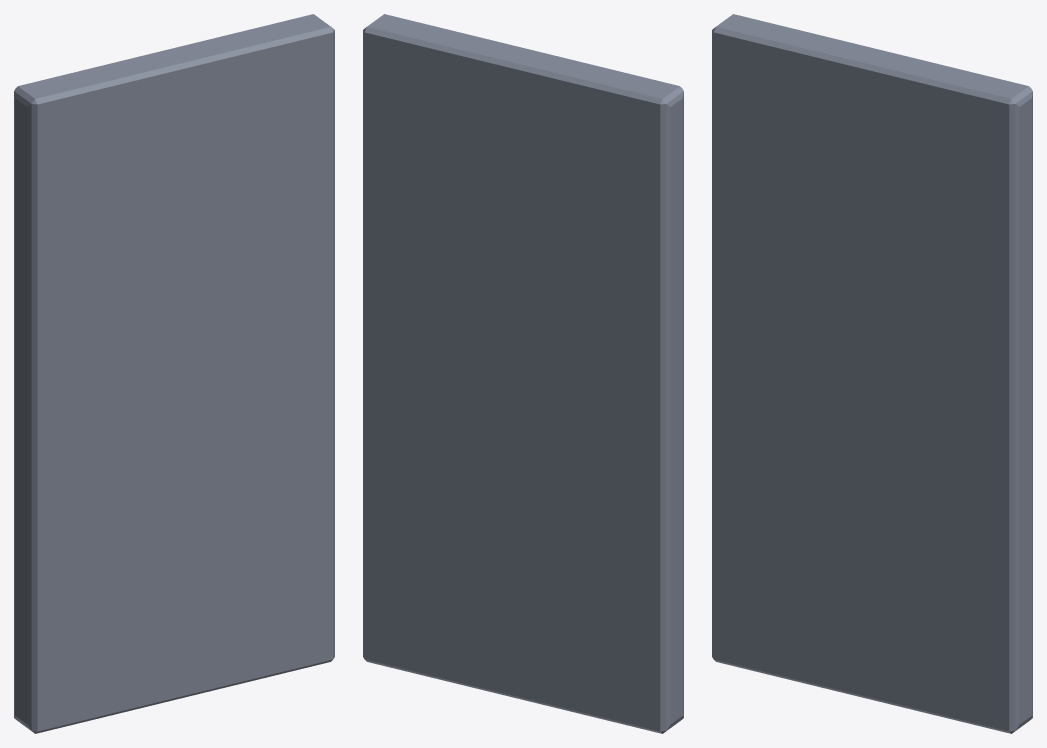
File: track_straight_8m.glb
3 views of the same model, side by side, from view 1: azimuth 30°, elevation 25°; view 2: azimuth 150°, elevation 25°; view 3: azimuth 330°, elevation 25° (orthographic).
Parts seen in each view (by area): view 1: track_straight_8m; view 2: track_straight_8m; view 3: track_straight_8m.
Part boxes in pixels (x1,y1,x2,y2): track_straight_8m: (14, 14, 334, 733); track_straight_8m: (363, 14, 683, 733); track_straight_8m: (712, 14, 1032, 733).
Size of the model in its own units: 4.04 by 8 by 0.5.
